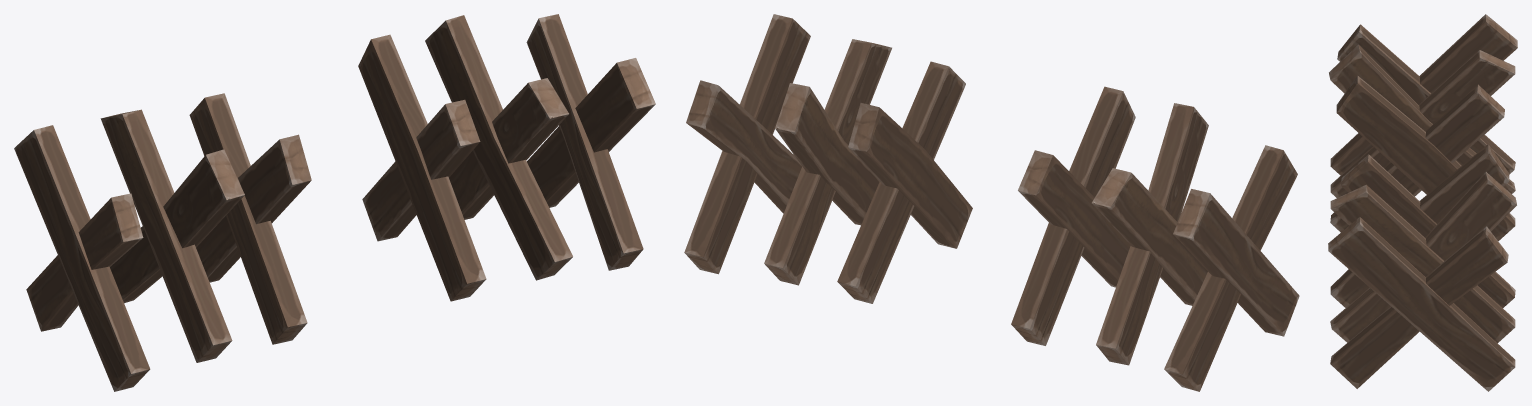
File: Trap8.fbx
The picture shows the model from 3 angles, left to right: view 1: azimuth 30°, elevation 25°; view 2: azimuth 150°, elevation 25°; view 3: azimuth 270°, elevation 25°; orthographic projection. The views are drawn at different scales.
Parts seen in each view (by area): view 1: pCube15 (×2), pCube16 (×2), pCube18 (×2), pCube17 (×2), pCube14 (×2), pCube19 (×2); view 2: pCube15 (×2), pCube18 (×2), pCube16 (×2), pCube19 (×2), pCube14 (×2), pCube17 (×2); view 3: pCube15 (×2), pCube18 (×2), pCube14 (×2), pCube17 (×2), pCube16 (×2), pCube19 (×2).
Boxes of the visible parts, x1,y1,x2,y2 form: pCube15 (×2): (14, 58, 655, 391); pCube16 (×2): (110, 15, 572, 303); pCube18 (×2): (196, 34, 486, 301); pCube17 (×2): (100, 78, 568, 362); pCube14 (×2): (26, 14, 643, 331); pCube19 (×2): (189, 93, 480, 344); pCube15 (×2): (684, 14, 1299, 336); pCube18 (×2): (848, 86, 1135, 345); pCube16 (×2): (775, 83, 1208, 365); pCube19 (×2): (837, 61, 1130, 303); pCube14 (×2): (686, 80, 1297, 391); pCube17 (×2): (764, 39, 1207, 305); pCube15 (×2): (1328, 14, 1517, 391); pCube18 (×2): (1330, 75, 1515, 307); pCube14 (×2): (1330, 24, 1515, 388); pCube17 (×2): (1330, 50, 1515, 343); pCube16 (×2): (1329, 44, 1516, 342); pCube19 (×2): (1330, 84, 1515, 307).
Size of the model in its own units: 5.12 by 1.99 by 1.95.
Materials: 1 (1 with a texture image).
